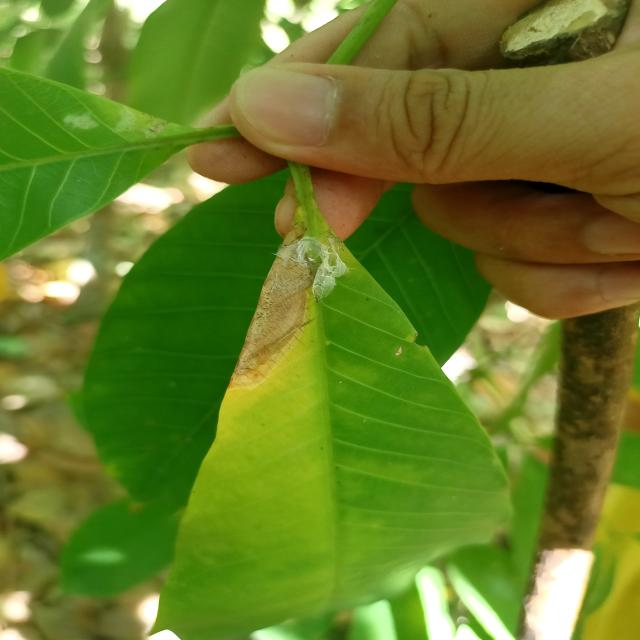Leaf-Blight: (228, 224, 312, 388)
